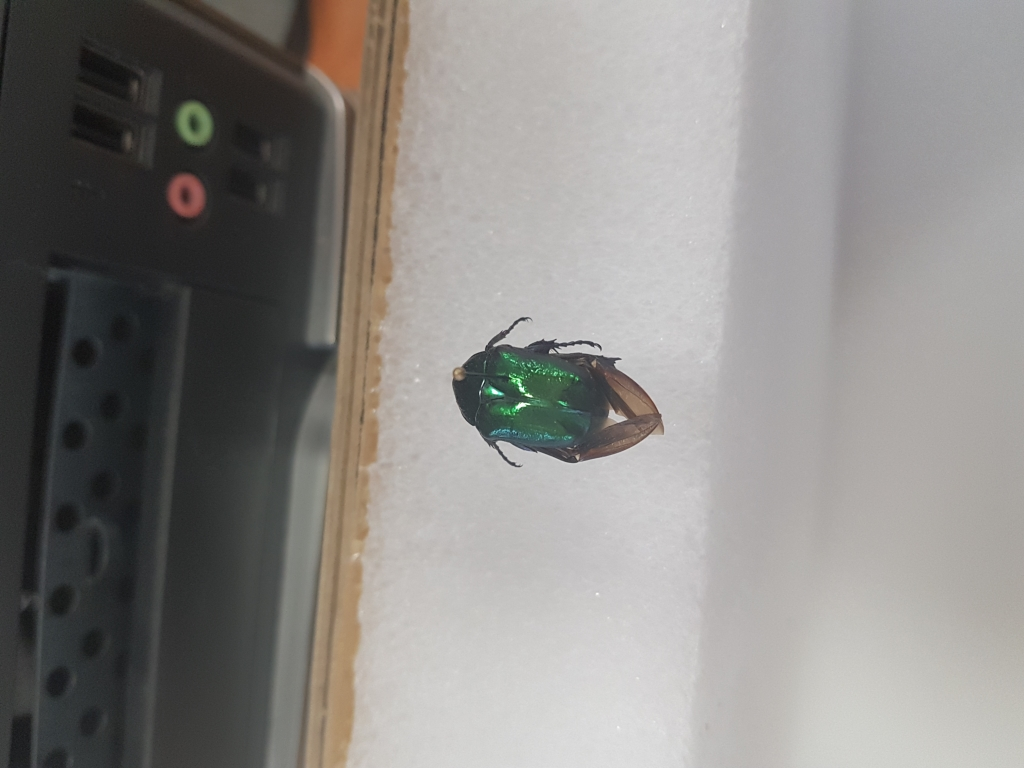Protaetia_angustata_angustata: (450, 316, 614, 470)
